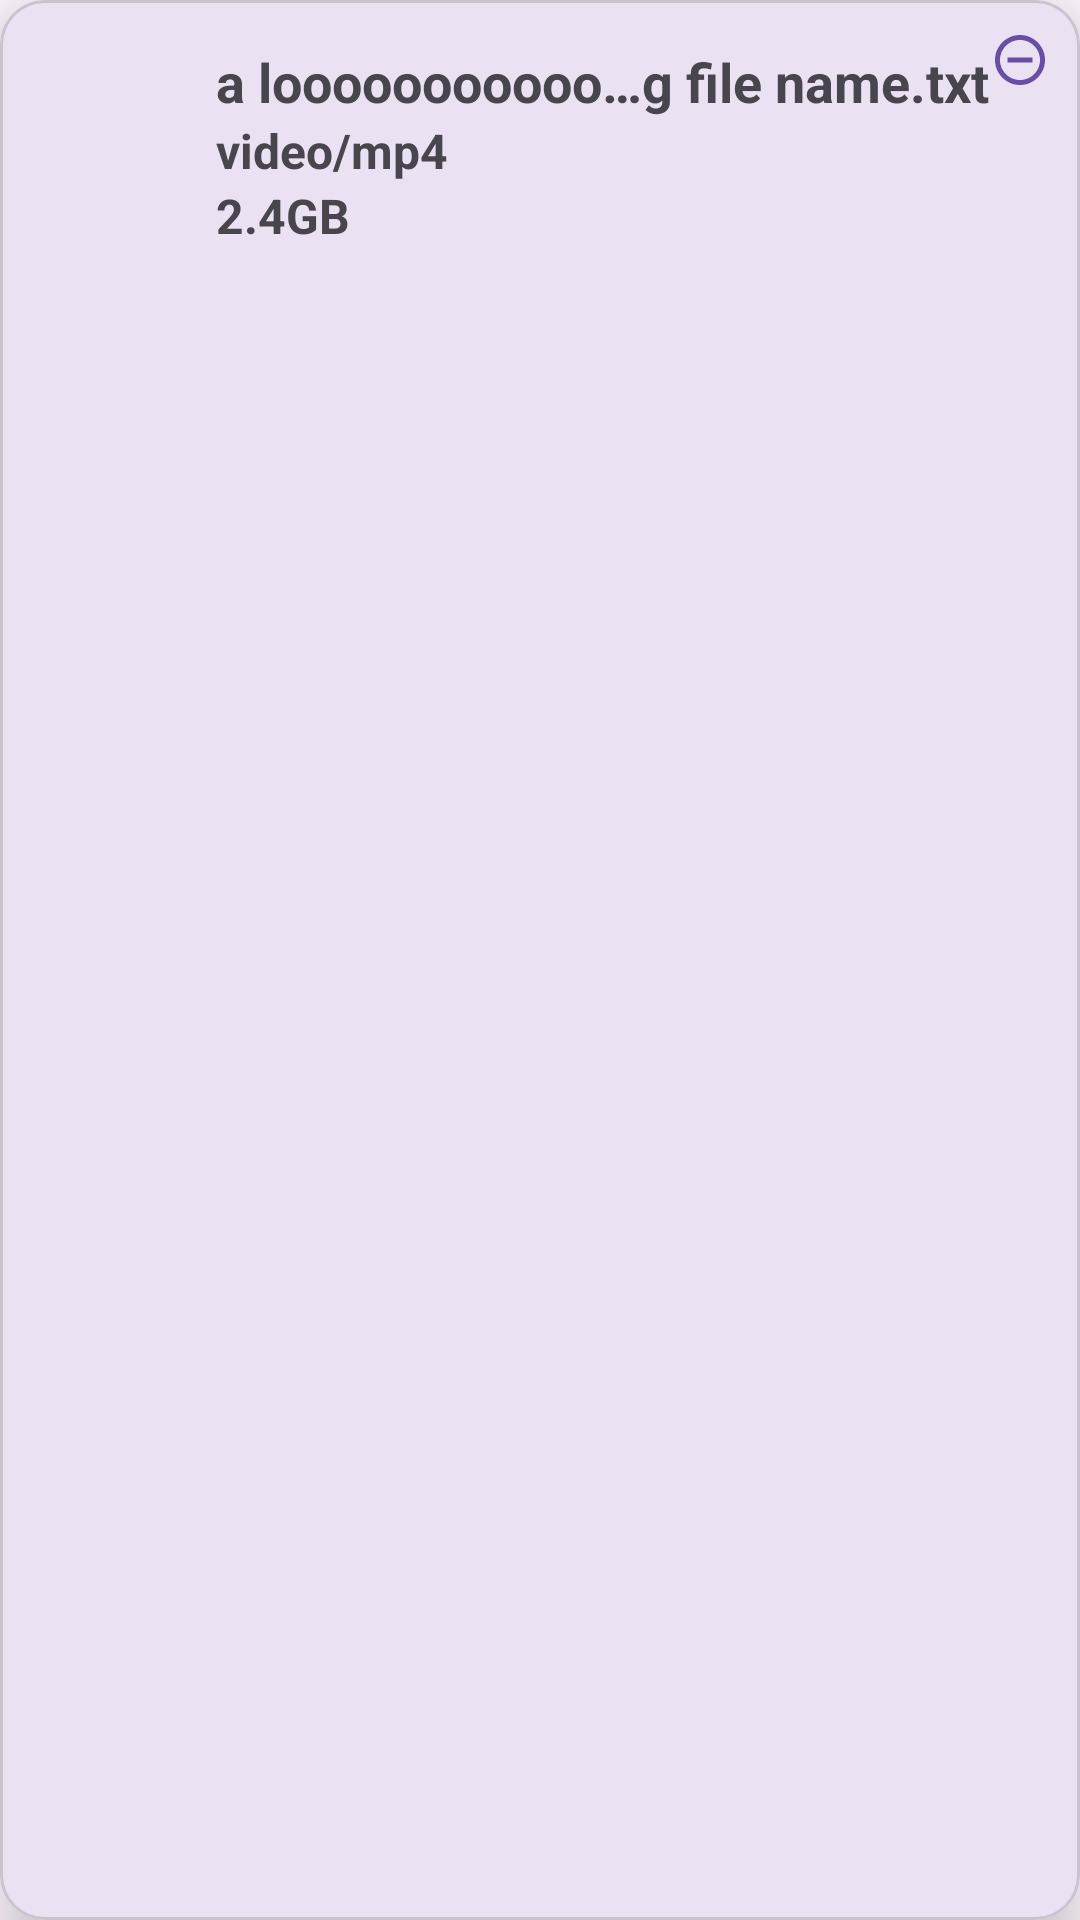

Icons on this 1080w x 1920h Android screen, each with its box as (x1, y1, x2, y2):
remove circle: (995, 35, 1045, 85)
